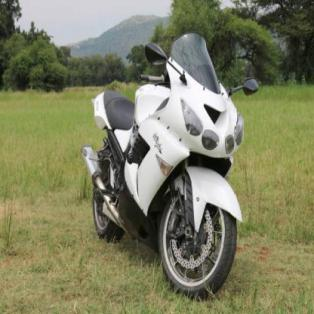Motocicleta: (80, 24, 259, 304)
